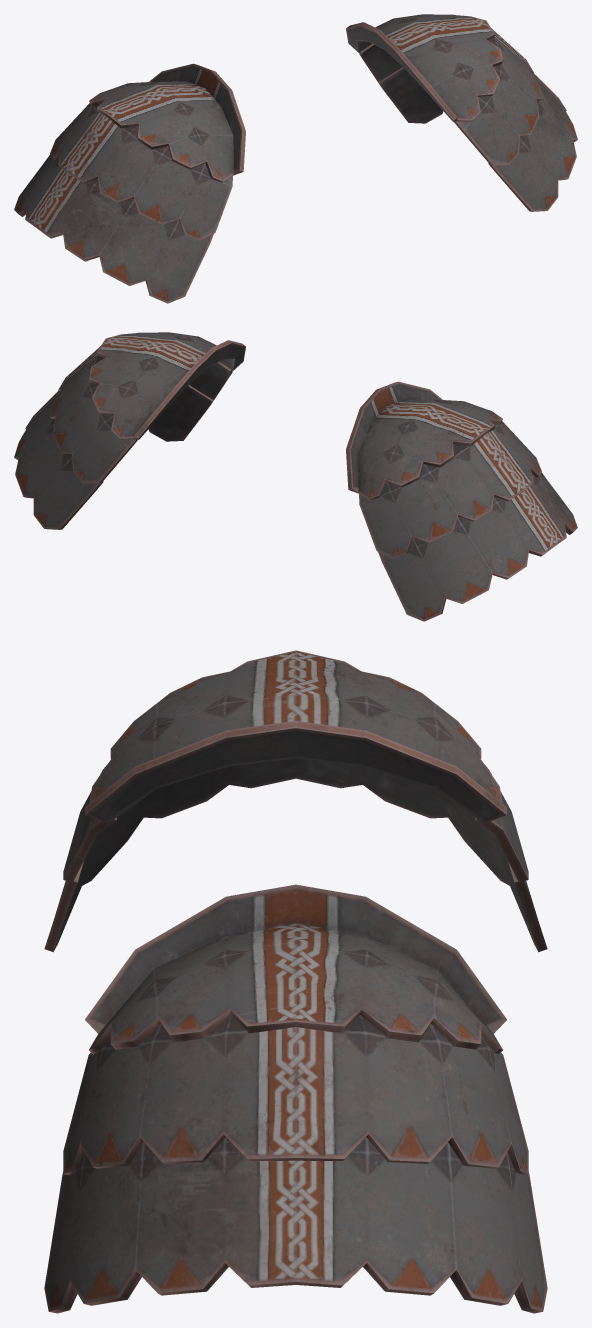
Rendered from sk_dwarf_dain_pauldron_med_b.fbx.
3 views of the same model, one above another, from view 1: azimuth 30°, elevation 25°; view 2: azimuth 150°, elevation 25°; view 3: azimuth 270°, elevation 25° (orthographic). The views are drawn at different scales.
Parts seen in each view (by area): view 1: sk_dwarf_dain_pauldron_med_b; view 2: sk_dwarf_dain_pauldron_med_b; view 3: sk_dwarf_dain_pauldron_med_b.
Boxes of the visible parts, x1=… form: sk_dwarf_dain_pauldron_med_b: x1=14, y1=14, x2=577, y2=303; sk_dwarf_dain_pauldron_med_b: x1=14, y1=332, x2=577, y2=621; sk_dwarf_dain_pauldron_med_b: x1=44, y1=650, x2=547, y2=1313.
Bounding box in the file's own units: 0.7246 × 0.3007 × 0.215.
1 material, 1 textured.
